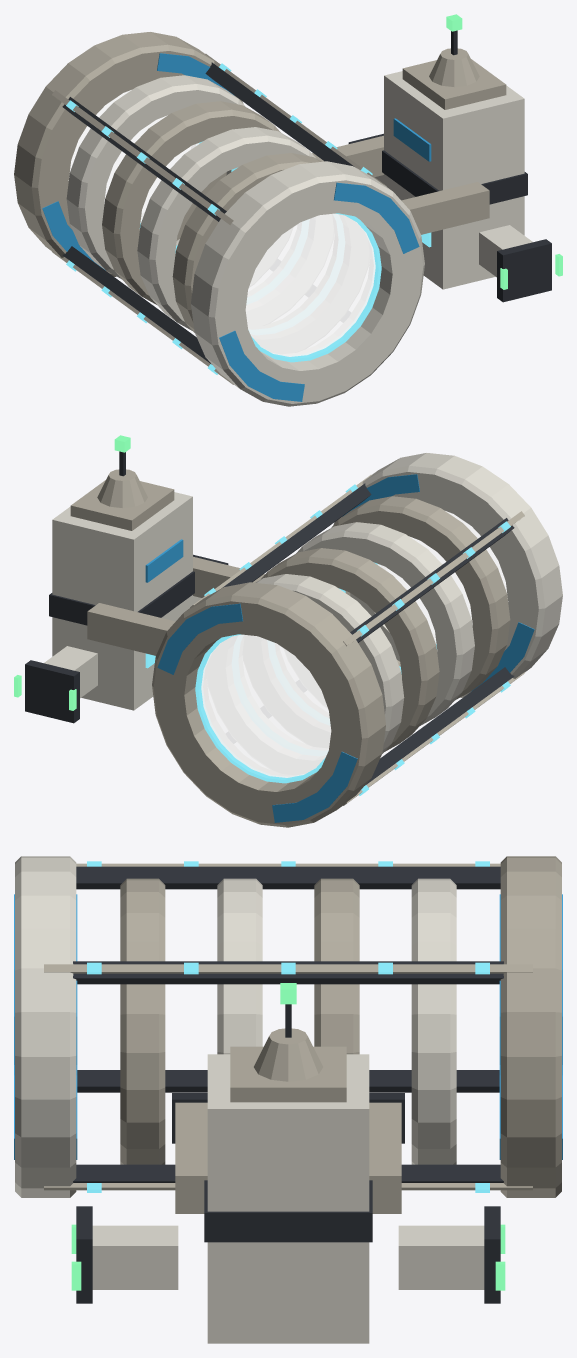
The model's file is gate_c.glb.
The picture shows the model from 3 angles, top to bottom: view 1: azimuth 30°, elevation 25°; view 2: azimuth 150°, elevation 25°; view 3: azimuth 270°, elevation 25°; orthographic projection. The views are drawn at different scales.
Visible parts, largest first — view 1: Gate_C; view 2: Gate_C; view 3: Gate_C.
Boxes of the visible parts, <box> form: Gate_C: <box>14,14,562,406</box>; Gate_C: <box>14,435,562,827</box>; Gate_C: <box>14,856,562,1343</box>.
Bounding box in the file's own units: 18.9 × 12.05 × 16.96.
